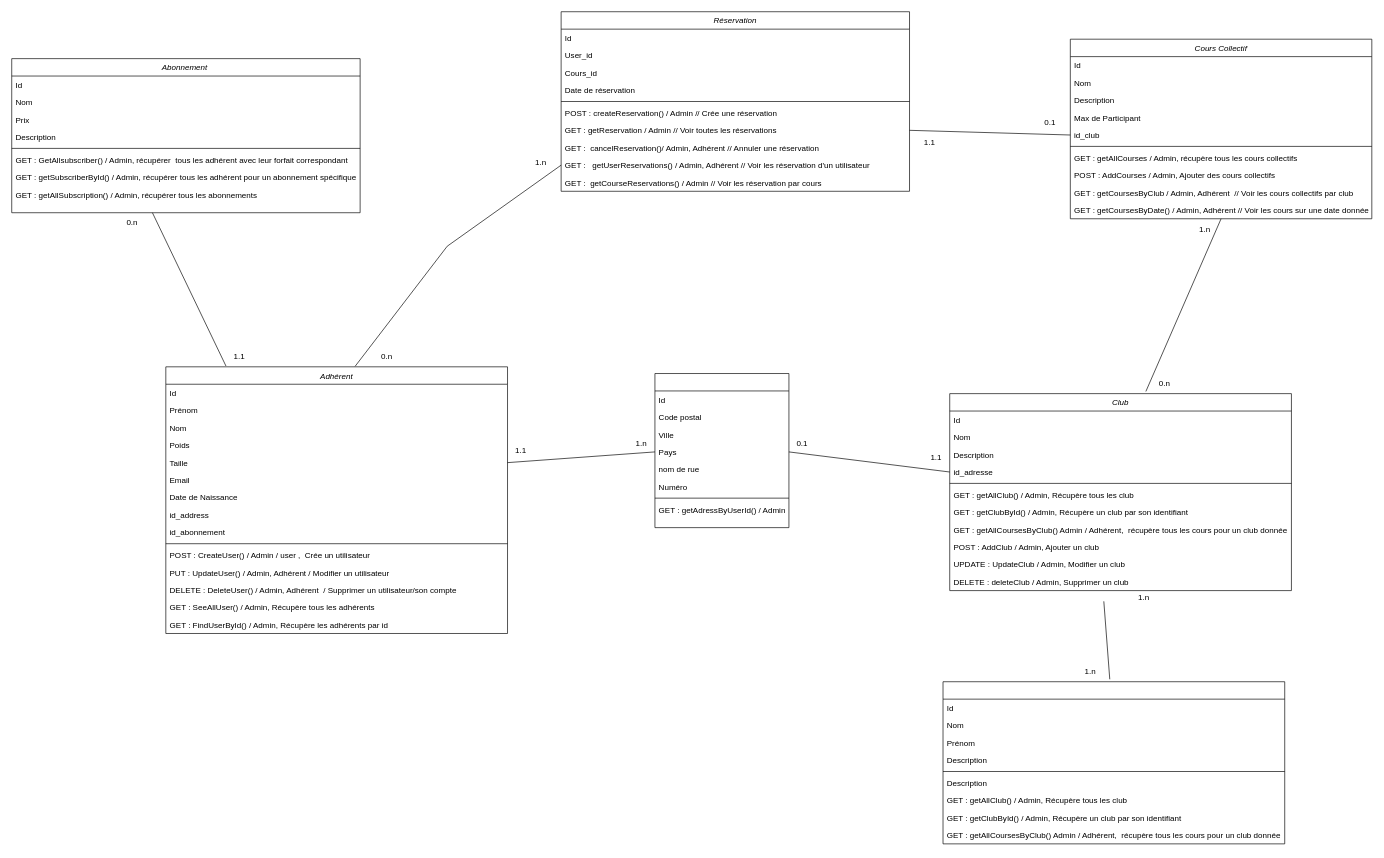
The diagram is 1384 pixels wide and 858 high, and some of its shapes have lost their labels. Each missing label, with the box of its shape:
Address: (654, 373, 789, 528)
Coach: (942, 681, 1285, 844)
